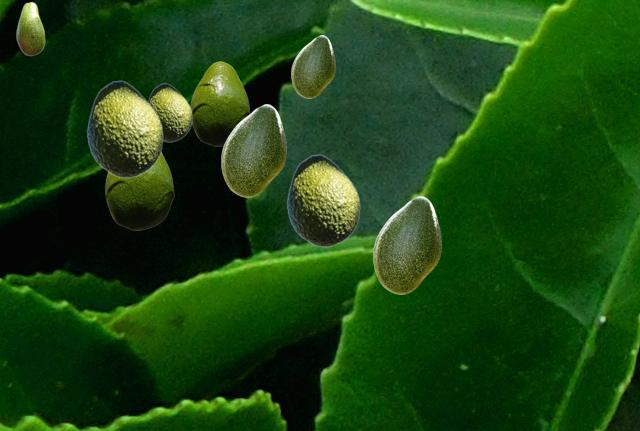avocado: (86, 80, 162, 177), (286, 154, 359, 246), (373, 196, 440, 293), (221, 104, 285, 196), (105, 152, 173, 229), (190, 61, 249, 145), (291, 35, 334, 97), (148, 83, 191, 141), (16, 1, 44, 55)
